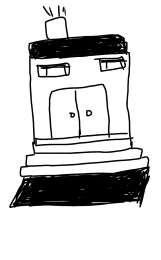closed_window: (92, 54, 130, 75), (37, 60, 74, 80)
door: (43, 83, 121, 141)
shaded_roof: (24, 32, 134, 61)
shadow: (7, 166, 154, 218)
smoking_chimney: (37, 3, 78, 41)
wall: (18, 52, 140, 145)
